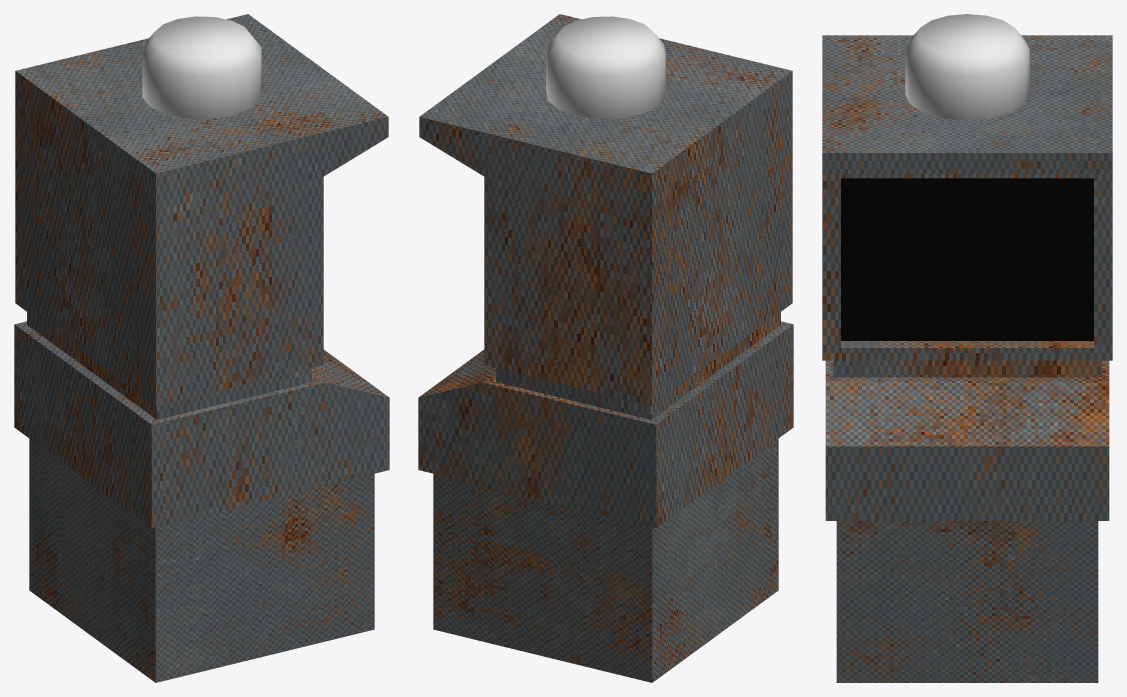
File: Codec Machine.glb
The picture shows the model from 3 angles, left to right: view 1: azimuth 30°, elevation 25°; view 2: azimuth 150°, elevation 25°; view 3: azimuth 270°, elevation 25°; orthographic projection. The views are drawn at different scales.
Parts seen in each view (by area): view 1: Cube.001; view 2: Cube.001; view 3: Cube.001.
Boxes of the visible parts, x1,y1,x2,y2 form: Cube.001: (14, 14, 389, 682); Cube.001: (418, 14, 793, 682); Cube.001: (822, 14, 1112, 682).
Size of the model in its own units: 0.9452 by 2.18 by 0.9668.
3 materials, 1 textured.
